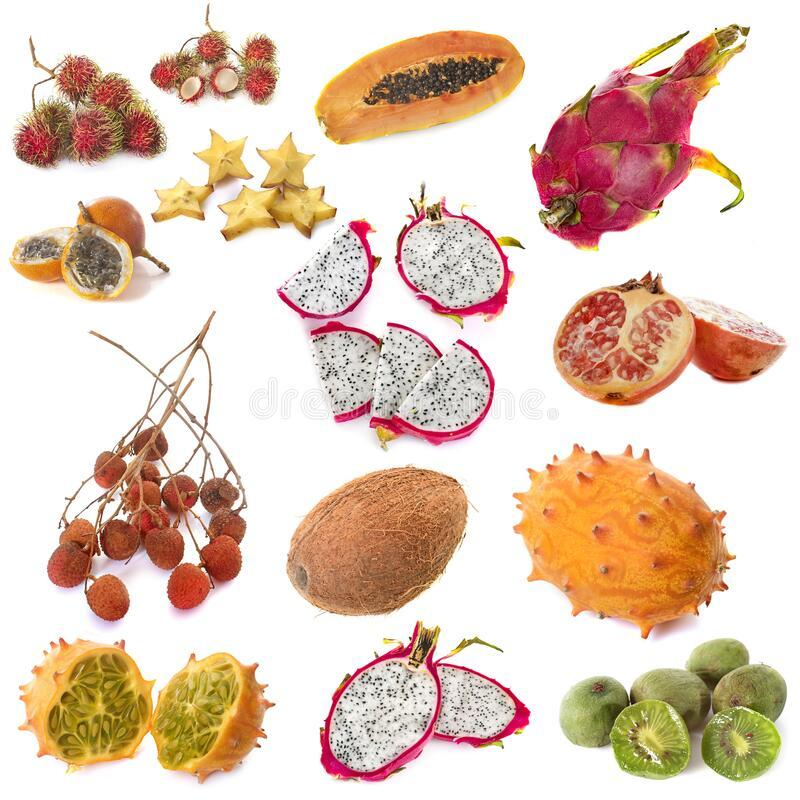thanh_long: (532, 25, 766, 255), (18, 63, 165, 160)
